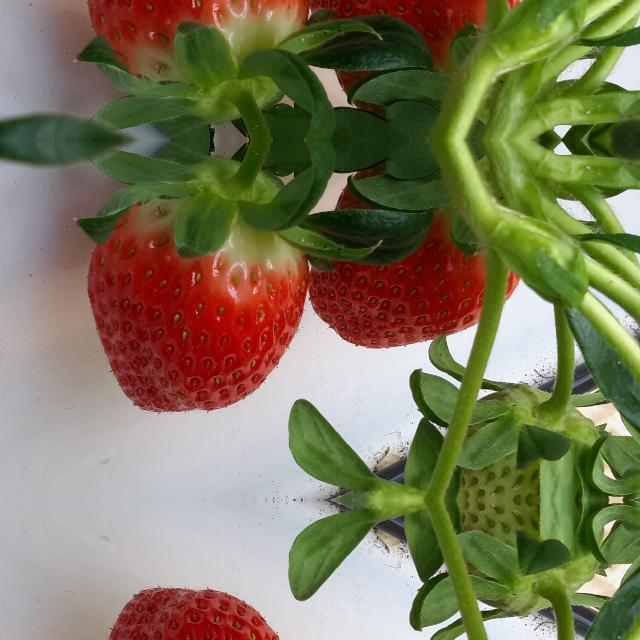Health_100: (87, 198, 309, 412), (310, 165, 520, 348), (310, 0, 520, 114), (87, 0, 309, 82), (87, 587, 309, 640)
